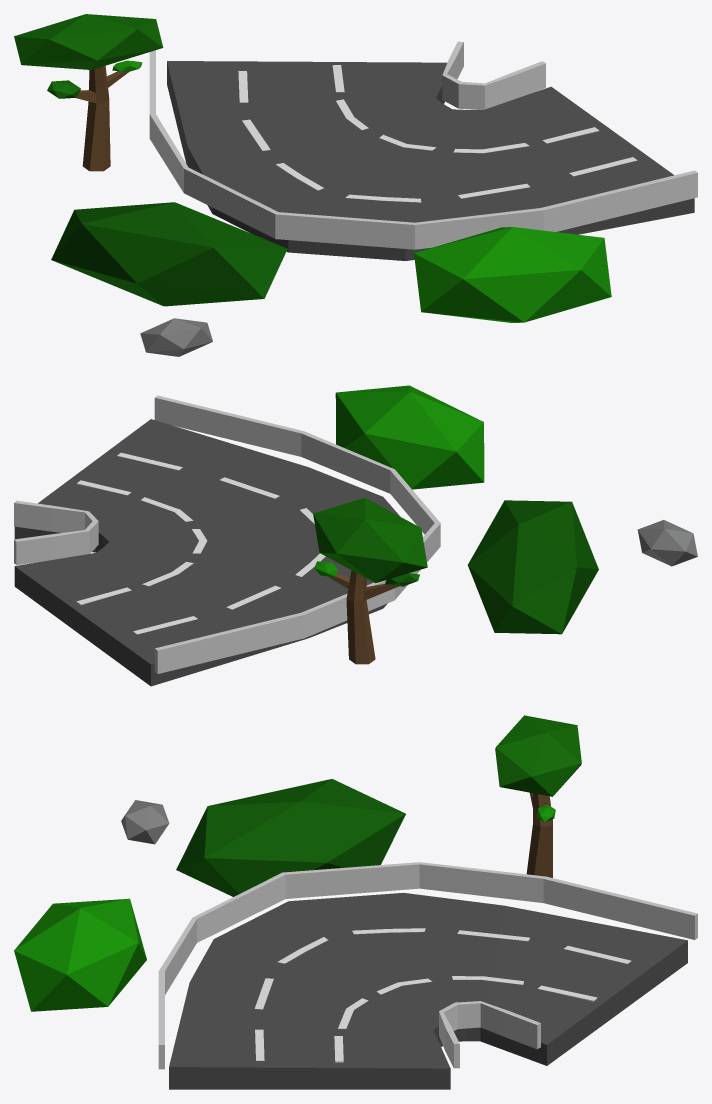
Rendered from highway_01_1.fbx.
The picture shows the model from 3 angles, top to bottom: view 1: azimuth 30°, elevation 25°; view 2: azimuth 150°, elevation 25°; view 3: azimuth 270°, elevation 25°; orthographic projection. The views are drawn at different scales.
Parts seen in each view (by area): view 1: autobahn01.004, bushBigAlso, leitPlankOutside.004, bushBig, leafsTop, leitPlankInside.004, treeStomp.001, stone; view 2: autobahn01.004, leitPlankOutside.004, bushBigAlso, bushBig, leafsTop, leitPlankInside.004, treeStomp.001, stone; view 3: autobahn01.004, bushBigAlso, leitPlankOutside.004, bushBig, leafsTop, leitPlankInside.004, treeStomp.001, stone.
Part boxes in pixels (x1=…): autobahn01.004: x1=167, y1=61, x2=694, y2=260; bushBigAlso: x1=51, y1=202, x2=287, y2=306; leitPlankOutside.004: x1=149, y1=50, x2=697, y2=249; bushBig: x1=414, y1=227, x2=611, y2=322; leafsTop: x1=14, y1=14, x2=163, y2=69; leitPlankInside.004: x1=442, y1=41, x2=545, y2=109; treeStomp.001: x1=76, y1=66, x2=129, y2=171; stone: x1=140, y1=318, x2=212, y2=356; autobahn01.004: x1=14, y1=419, x2=399, y2=686; leitPlankOutside.004: x1=154, y1=395, x2=440, y2=673; bushBigAlso: x1=468, y1=500, x2=598, y2=634; bushBig: x1=335, y1=385, x2=484, y2=489; leafsTop: x1=313, y1=498, x2=427, y2=583; leitPlankInside.004: x1=14, y1=500, x2=98, y2=565; treeStomp.001: x1=328, y1=570, x2=398, y2=664; stone: x1=637, y1=520, x2=697, y2=566; autobahn01.004: x1=169, y1=892, x2=687, y2=1089; bushBigAlso: x1=176, y1=779, x2=405, y2=896; leitPlankOutside.004: x1=158, y1=862, x2=697, y2=1069; bushBig: x1=14, y1=898, x2=146, y2=1011; leafsTop: x1=495, y1=715, x2=581, y2=796; leitPlankInside.004: x1=439, y1=1001, x2=540, y2=1068; treeStomp.001: x1=526, y1=792, x2=552, y2=877; stone: x1=121, y1=800, x2=169, y2=844.
Size of the model in its own units: 87.55 by 27.13 by 93.98.
